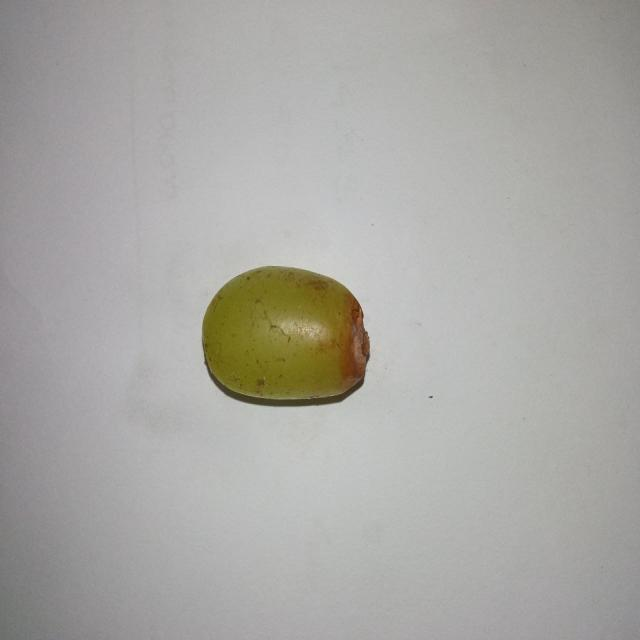rotten_grape: (200, 263, 368, 402)
